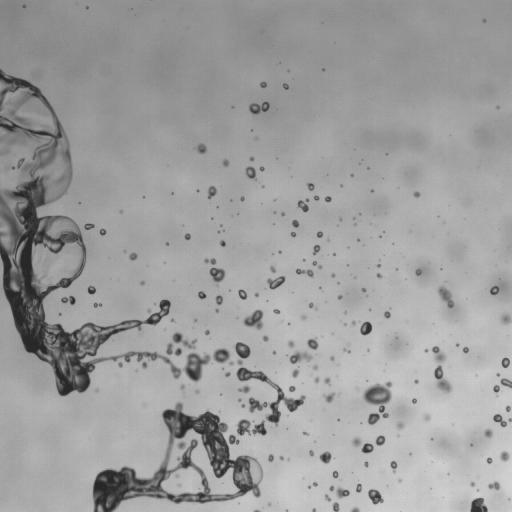droplet: (362, 380, 393, 425), (242, 309, 263, 330), (208, 267, 225, 287), (289, 350, 313, 364), (266, 275, 285, 289), (249, 101, 269, 114), (368, 488, 383, 505), (470, 497, 487, 511), (493, 413, 507, 427), (319, 451, 335, 463), (360, 321, 373, 335), (297, 198, 309, 212), (245, 166, 256, 180), (307, 336, 318, 350), (499, 312, 511, 324), (207, 185, 217, 199), (61, 295, 75, 305), (487, 481, 501, 491), (194, 143, 206, 154), (499, 450, 510, 462), (500, 378, 511, 389), (374, 435, 385, 446), (268, 79, 279, 90), (4, 91, 15, 102), (11, 144, 22, 155), (7, 180, 18, 191), (299, 188, 310, 199), (34, 205, 45, 216), (292, 208, 303, 219), (212, 246, 223, 257), (284, 270, 295, 281), (56, 286, 67, 297), (75, 289, 86, 300), (0, 300, 11, 311), (3, 311, 14, 322), (44, 314, 55, 325), (108, 314, 119, 325), (10, 331, 21, 342), (297, 341, 308, 352), (96, 344, 107, 355), (194, 345, 205, 356), (335, 351, 346, 362), (175, 356, 186, 367), (242, 358, 253, 369), (206, 359, 217, 370), (296, 359, 307, 370), (409, 385, 420, 396), (182, 405, 193, 416), (188, 407, 199, 418), (240, 408, 251, 419), (371, 422, 382, 433), (225, 424, 236, 435), (301, 437, 312, 448), (326, 459, 337, 470), (83, 492, 94, 503), (358, 492, 369, 503), (138, 494, 149, 505), (291, 365, 299, 378), (238, 289, 248, 299), (338, 502, 349, 511), (390, 460, 397, 473), (490, 285, 499, 295), (484, 428, 493, 438), (312, 244, 320, 255), (501, 357, 509, 368), (371, 503, 382, 511), (87, 285, 96, 294), (395, 421, 404, 430), (3, 67, 12, 76), (17, 85, 26, 94), (61, 123, 70, 132), (23, 153, 32, 162), (0, 223, 9, 232), (80, 229, 89, 238), (301, 261, 310, 270), (206, 293, 215, 302), (244, 307, 253, 316), (63, 324, 72, 333), (181, 346, 190, 355), (229, 351, 238, 360), (45, 365, 54, 374), (179, 372, 188, 381), (247, 377, 256, 386), (361, 381, 370, 390), (322, 385, 331, 394), (69, 389, 78, 398), (290, 390, 299, 399), (355, 390, 364, 399), (240, 392, 249, 401), (277, 402, 286, 411), (369, 403, 378, 412), (263, 420, 272, 429), (228, 451, 237, 460), (491, 453, 500, 462), (258, 455, 267, 464), (332, 478, 341, 487), (359, 489, 368, 498), (329, 492, 338, 501), (337, 496, 346, 505), (215, 295, 223, 305), (323, 376, 331, 386), (84, 223, 95, 230), (384, 307, 391, 318), (204, 258, 216, 264), (198, 291, 207, 299), (287, 339, 295, 348), (332, 502, 340, 511), (0, 107, 8, 116), (505, 367, 511, 378), (113, 505, 124, 511), (338, 505, 349, 511), (306, 182, 314, 190), (291, 219, 299, 227), (129, 252, 137, 260), (92, 302, 102, 308), (356, 482, 362, 492), (222, 159, 229, 167), (98, 228, 106, 235), (415, 268, 422, 276), (0, 155, 5, 166), (0, 287, 5, 298), (413, 191, 420, 198), (462, 346, 469, 353), (311, 363, 318, 370), (423, 414, 430, 421), (324, 494, 331, 501), (13, 71, 20, 78), (23, 74, 30, 81), (30, 78, 37, 85), (39, 87, 46, 94), (71, 166, 78, 173), (311, 188, 318, 195), (307, 190, 314, 197), (92, 226, 99, 233), (218, 233, 225, 240), (314, 237, 321, 244), (310, 265, 317, 272), (270, 272, 277, 279), (444, 283, 451, 290), (49, 289, 56, 296), (246, 291, 253, 298), (434, 293, 441, 300), (450, 294, 457, 301), (41, 297, 48, 304), (440, 300, 447, 307), (153, 305, 160, 312), (495, 310, 502, 317), (160, 315, 167, 322), (260, 315, 267, 322), (494, 317, 501, 324), (141, 322, 148, 329), (354, 322, 361, 329), (175, 326, 182, 333), (258, 328, 265, 335), (166, 335, 173, 342), (171, 342, 178, 349), (216, 342, 223, 349), (138, 345, 145, 352), (438, 345, 445, 352), (121, 346, 128, 353), (306, 347, 313, 354), (159, 348, 166, 355), (287, 348, 294, 355), (207, 349, 214, 356), (427, 350, 434, 357), (27, 351, 34, 358), (168, 353, 175, 360), (129, 354, 136, 361), (141, 355, 148, 362), (208, 356, 215, 363), (155, 357, 162, 364), (221, 360, 228, 367), (214, 361, 221, 368), (290, 362, 297, 369), (232, 363, 239, 370), (262, 368, 269, 375), (312, 369, 319, 376), (166, 370, 173, 377), (87, 371, 94, 378), (289, 378, 296, 385), (238, 380, 245, 387), (367, 380, 374, 387), (86, 384, 93, 391), (499, 384, 506, 391), (388, 385, 395, 392), (436, 387, 443, 394), (283, 390, 290, 397), (270, 394, 277, 401), (176, 395, 183, 402), (383, 401, 390, 408), (168, 403, 175, 410), (265, 407, 272, 414), (501, 413, 508, 420), (157, 416, 164, 423), (162, 427, 169, 434), (222, 431, 229, 438), (348, 432, 355, 439), (314, 449, 321, 456), (362, 452, 369, 459), (126, 461, 133, 468), (98, 464, 105, 471), (113, 464, 120, 471), (152, 464, 159, 471), (134, 471, 141, 478), (87, 479, 94, 486), (348, 486, 355, 493), (361, 486, 368, 493), (246, 489, 253, 496), (150, 496, 157, 503), (162, 497, 169, 504), (226, 498, 233, 505), (166, 499, 173, 506), (223, 499, 230, 506), (482, 499, 489, 506), (179, 500, 186, 507), (464, 503, 471, 510), (270, 265, 276, 273), (505, 405, 511, 413), (332, 470, 338, 478), (262, 506, 271, 511), (324, 196, 331, 202), (316, 231, 323, 237), (184, 233, 190, 240), (219, 240, 225, 247), (350, 320, 356, 327), (313, 376, 319, 383), (289, 385, 295, 392), (411, 398, 418, 404), (273, 309, 281, 314), (268, 454, 273, 462), (260, 81, 266, 87), (283, 83, 289, 89), (313, 195, 319, 201), (376, 273, 382, 279), (300, 314, 306, 320), (204, 329, 210, 335), (262, 335, 268, 341), (224, 371, 230, 377), (486, 457, 492, 463), (0, 80, 4, 89), (0, 126, 4, 135), (0, 141, 4, 150), (0, 261, 4, 270), (290, 232, 297, 237), (302, 431, 309, 436), (309, 450, 314, 457), (470, 481, 475, 487), (507, 309, 511, 316), (507, 321, 511, 328), (507, 410, 511, 417), (507, 421, 511, 428), (507, 449, 511, 456), (507, 454, 511, 461), (249, 156, 254, 161), (259, 166, 264, 171), (240, 196, 245, 201), (140, 280, 145, 285), (254, 292, 259, 297), (337, 294, 342, 299), (342, 321, 347, 326), (329, 356, 334, 361), (240, 403, 245, 408), (279, 455, 284, 460), (397, 478, 402, 483), (258, 77, 263, 82), (23, 86, 28, 91), (45, 95, 50, 100), (257, 100, 262, 105), (52, 106, 57, 111), (246, 110, 251, 115), (253, 113, 258, 118), (59, 120, 64, 125), (193, 141, 198, 146), (205, 145, 210, 150), (69, 151, 74, 156), (248, 151, 253, 156), (198, 152, 203, 157), (226, 156, 231, 161), (217, 160, 222, 165), (12, 161, 17, 166), (248, 161, 253, 166), (227, 162, 232, 167), (14, 167, 19, 172), (254, 167, 259, 172), (240, 168, 245, 173), (214, 184, 219, 189), (303, 185, 308, 190), (66, 187, 71, 192), (416, 187, 421, 192), (203, 191, 208, 196), (61, 194, 66, 199), (308, 195, 313, 200), (319, 195, 324, 200), (300, 196, 305, 201), (412, 196, 417, 201), (325, 201, 330, 206), (297, 207, 302, 212), (275, 211, 280, 216), (355, 214, 360, 219), (287, 219, 292, 224), (297, 219, 302, 224), (291, 226, 296, 231), (321, 234, 326, 239), (82, 239, 87, 244), (85, 247, 90, 252), (308, 247, 313, 252), (126, 249, 131, 254), (207, 254, 212, 259), (311, 255, 316, 260), (130, 259, 135, 264), (199, 259, 204, 264), (213, 263, 218, 268), (419, 265, 424, 270), (375, 267, 380, 272), (81, 268, 86, 273), (302, 272, 307, 277), (207, 274, 212, 279), (222, 275, 227, 280), (333, 276, 338, 281), (70, 280, 75, 285), (217, 280, 222, 285), (264, 282, 269, 287), (279, 283, 284, 288), (140, 284, 145, 289), (164, 295, 169, 300), (74, 298, 79, 303), (211, 298, 216, 303), (221, 298, 226, 303), (155, 299, 160, 304), (214, 303, 219, 308), (452, 303, 457, 308), (257, 305, 262, 310), (168, 306, 173, 311), (309, 307, 314, 312), (447, 307, 452, 312), (272, 312, 277, 317), (144, 313, 149, 318), (379, 313, 384, 318), (125, 315, 130, 320), (120, 316, 125, 321), (86, 317, 91, 322), (361, 317, 366, 322), (82, 318, 87, 323), (346, 320, 351, 325), (101, 321, 106, 326), (370, 322, 375, 327), (75, 323, 80, 328), (132, 326, 137, 331), (118, 330, 123, 335), (368, 330, 373, 335), (208, 331, 213, 336), (110, 333, 115, 338), (306, 334, 311, 339), (309, 334, 314, 339), (291, 336, 296, 341), (258, 337, 263, 342), (315, 338, 320, 343), (242, 339, 247, 344), (283, 339, 288, 344), (261, 340, 266, 345), (431, 341, 436, 346), (458, 344, 463, 349), (248, 345, 253, 350), (427, 345, 432, 350), (315, 346, 320, 351), (148, 348, 153, 353), (111, 351, 116, 356), (248, 352, 253, 357), (94, 353, 99, 358), (119, 356, 124, 361), (284, 356, 289, 361), (108, 359, 113, 364), (285, 359, 290, 364), (309, 359, 314, 364), (295, 360, 300, 365), (93, 362, 98, 367), (165, 363, 170, 368), (432, 363, 437, 368), (317, 364, 322, 369), (441, 366, 446, 371), (308, 367, 313, 372), (287, 369, 292, 374), (429, 370, 434, 375), (296, 372, 301, 377), (441, 374, 446, 379), (309, 376, 314, 381), (319, 376, 324, 381), (389, 377, 394, 382), (432, 377, 437, 382), (329, 378, 334, 383), (261, 380, 266, 385), (176, 388, 181, 393), (53, 389, 58, 394), (490, 390, 495, 395), (253, 395, 258, 400), (332, 395, 337, 400), (320, 396, 325, 401), (302, 398, 307, 403), (258, 399, 263, 404), (324, 401, 329, 406), (245, 402, 250, 407), (296, 404, 301, 409), (253, 407, 258, 412), (383, 407, 388, 412), (199, 409, 204, 414), (211, 409, 216, 414), (493, 409, 498, 414), (364, 413, 369, 418), (429, 413, 434, 418), (488, 414, 493, 419), (278, 415, 283, 420), (218, 417, 223, 422), (399, 417, 404, 422), (255, 419, 260, 424), (249, 424, 254, 429), (398, 428, 403, 433), (479, 430, 484, 435), (242, 431, 247, 436), (255, 431, 260, 436), (264, 432, 269, 437), (234, 433, 239, 438), (224, 437, 229, 442), (371, 441, 376, 446), (358, 443, 363, 448), (318, 449, 323, 454), (263, 454, 268, 459), (273, 455, 278, 460), (328, 458, 333, 463), (319, 460, 324, 465), (387, 466, 392, 471), (337, 472, 342, 477), (472, 477, 477, 482), (489, 478, 494, 483), (498, 481, 503, 486), (257, 483, 262, 488), (474, 483, 479, 488), (333, 484, 338, 489), (341, 484, 346, 489), (471, 485, 476, 490), (490, 487, 495, 492), (474, 493, 479, 498), (367, 498, 372, 503), (195, 501, 200, 506), (203, 501, 208, 506), (254, 504, 259, 509), (364, 461, 368, 467), (20, 0, 27, 3), (0, 215, 3, 222), (0, 277, 3, 284), (281, 211, 285, 216), (361, 288, 366, 292), (215, 308, 219, 313), (170, 318, 175, 322), (455, 342, 459, 347), (424, 348, 428, 353), (118, 362, 122, 367), (496, 372, 500, 377), (355, 386, 359, 391), (195, 389, 199, 394), (176, 483, 181, 487), (482, 18, 486, 22), (254, 136, 258, 140), (370, 189, 374, 193), (119, 209, 123, 213), (331, 273, 335, 277), (366, 348, 370, 352), (272, 350, 276, 354), (414, 379, 418, 383), (94, 388, 98, 392), (237, 398, 241, 402), (507, 418, 511, 422), (267, 502, 271, 506), (339, 216, 342, 221), (344, 310, 347, 315), (311, 508, 316, 511), (508, 362, 511, 367), (508, 376, 511, 381), (307, 508, 312, 511), (358, 508, 363, 511), (486, 508, 491, 511), (22, 4, 26, 7), (85, 6, 89, 9), (496, 105, 499, 109), (350, 173, 353, 177), (196, 189, 199, 193), (353, 222, 356, 226), (378, 235, 382, 238), (327, 237, 330, 241), (356, 238, 360, 241), (165, 242, 169, 245), (123, 249, 126, 253), (332, 252, 336, 255), (376, 264, 380, 267), (194, 318, 197, 322), (396, 434, 400, 437), (446, 472, 450, 475), (322, 68, 325, 71), (261, 185, 264, 188), (340, 184, 343, 187), (142, 195, 145, 198), (273, 198, 276, 201), (273, 211, 276, 214), (358, 212, 361, 215), (352, 217, 355, 220), (219, 224, 222, 227), (382, 230, 385, 233), (278, 250, 281, 253), (302, 258, 305, 261), (395, 267, 398, 270), (353, 276, 356, 279), (153, 302, 156, 305), (368, 308, 371, 311), (58, 312, 61, 315), (280, 320, 283, 323), (287, 322, 290, 325), (163, 327, 166, 330), (331, 332, 334, 335), (395, 336, 398, 339), (221, 367, 224, 370), (337, 418, 340, 421), (430, 437, 433, 440), (470, 443, 473, 446), (409, 452, 412, 455), (476, 488, 479, 491), (19, 3, 22, 6), (87, 3, 90, 6), (25, 4, 28, 7), (21, 7, 24, 10), (84, 8, 87, 11), (485, 17, 488, 20), (322, 65, 325, 68), (320, 70, 323, 73), (264, 79, 267, 82), (266, 82, 269, 85), (287, 83, 290, 86), (257, 84, 260, 87), (264, 86, 267, 89), (261, 87, 264, 90), (281, 87, 284, 90), (285, 88, 288, 91), (263, 98, 266, 101), (492, 105, 495, 108), (267, 107, 270, 110), (250, 125, 253, 128), (247, 128, 250, 131), (252, 128, 255, 131), (385, 149, 388, 152), (19, 155, 22, 158), (360, 160, 363, 163), (368, 164, 371, 167), (263, 165, 266, 168), (363, 165, 366, 168), (8, 166, 11, 169), (263, 168, 266, 171), (364, 168, 367, 171), (368, 168, 371, 171), (349, 170, 352, 173), (353, 173, 356, 176), (347, 174, 350, 177), (350, 176, 353, 179), (250, 177, 253, 180), (310, 180, 313, 183), (339, 180, 342, 183), (342, 182, 345, 185), (336, 184, 339, 187), (341, 186, 344, 189), (262, 187, 265, 190), (170, 188, 173, 191), (367, 188, 370, 191), (373, 188, 376, 191), (173, 191, 176, 194), (194, 191, 197, 194), (372, 191, 375, 194), (327, 193, 330, 196), (144, 194, 147, 197), (169, 194, 172, 197), (243, 195, 246, 198), (237, 196, 240, 199), (330, 197, 333, 200), (78, 198, 81, 201), (142, 198, 145, 201), (206, 198, 209, 201), (243, 198, 246, 201), (275, 199, 278, 202), (294, 200, 297, 203), (78, 203, 81, 206), (294, 203, 297, 206), (218, 204, 221, 207), (306, 209, 309, 212), (359, 209, 362, 212), (284, 211, 287, 214), (210, 213, 213, 216), (233, 213, 236, 216), (282, 215, 285, 218), (207, 216, 210, 219), (292, 216, 295, 219), (341, 217, 344, 220), (210, 219, 213, 222), (353, 219, 356, 222), (88, 220, 91, 223), (219, 220, 222, 223), (336, 220, 339, 223), (90, 227, 93, 230), (316, 228, 319, 231), (186, 230, 189, 233), (287, 231, 290, 234), (97, 232, 100, 235), (380, 232, 383, 235), (313, 233, 316, 236), (102, 234, 105, 237), (288, 234, 291, 237), (294, 235, 297, 238), (189, 236, 192, 239), (291, 236, 294, 239), (328, 236, 331, 239), (182, 237, 185, 240), (359, 237, 362, 240), (377, 237, 380, 240), (353, 238, 356, 241), (185, 239, 188, 242), (162, 241, 165, 244), (168, 241, 171, 244), (224, 241, 227, 244), (357, 241, 360, 244), (388, 241, 391, 244), (311, 243, 314, 246), (165, 245, 168, 248), (220, 245, 223, 248), (279, 247, 282, 250), (134, 250, 137, 253), (275, 251, 278, 254), (268, 252, 271, 255), (329, 252, 332, 255), (335, 252, 338, 255), (332, 255, 335, 258), (214, 256, 217, 259), (201, 257, 204, 260), (299, 257, 302, 260), (345, 260, 348, 263), (377, 260, 380, 263), (316, 261, 319, 264), (348, 264, 351, 267), (395, 264, 398, 267), (440, 264, 443, 267), (321, 265, 324, 268), (293, 267, 296, 270), (392, 267, 395, 270), (436, 267, 439, 270), (442, 267, 445, 270), (395, 270, 398, 273), (412, 271, 415, 274), (294, 272, 297, 275), (299, 272, 302, 275), (328, 272, 331, 275), (351, 273, 354, 276), (373, 273, 376, 276), (418, 274, 421, 277), (328, 275, 331, 278), (375, 276, 378, 279), (138, 278, 141, 281), (144, 281, 147, 284), (338, 283, 341, 286), (491, 283, 494, 286), (495, 283, 498, 286), (361, 284, 364, 287), (94, 285, 97, 288), (315, 285, 318, 288), (239, 286, 242, 289), (321, 286, 324, 289), (487, 287, 490, 290), (84, 288, 87, 291), (197, 288, 200, 291), (243, 288, 246, 291), (270, 288, 273, 291), (317, 288, 320, 291), (498, 288, 501, 291), (94, 290, 97, 293), (203, 291, 206, 294), (235, 291, 238, 294), (363, 291, 366, 294), (487, 291, 490, 294), (195, 292, 198, 295), (216, 292, 219, 295), (258, 292, 261, 295), (336, 292, 339, 295), (89, 293, 92, 296), (491, 294, 494, 297), (334, 295, 337, 298), (245, 296, 248, 299), (255, 296, 258, 299), (197, 297, 200, 300), (202, 297, 205, 300), (238, 297, 241, 300), (340, 297, 343, 300), (66, 300, 69, 303), (96, 300, 99, 303), (100, 300, 103, 303), (60, 301, 63, 304), (90, 303, 93, 306), (101, 303, 104, 306), (305, 303, 308, 306), (312, 303, 315, 306), (96, 305, 99, 308), (365, 306, 368, 309), (370, 306, 373, 309), (277, 307, 280, 310), (341, 308, 344, 311), (58, 309, 61, 312), (346, 309, 349, 312), (370, 309, 373, 312), (388, 309, 391, 312), (212, 310, 215, 313), (190, 318, 193, 321), (196, 319, 199, 322), (287, 319, 290, 322), (171, 321, 174, 324), (284, 321, 287, 324), (340, 323, 343, 326), (287, 324, 290, 327), (203, 327, 206, 330), (208, 328, 211, 331), (394, 333, 397, 336), (267, 335, 270, 338), (452, 343, 455, 346), (340, 345, 343, 348), (467, 345, 470, 348), (346, 346, 349, 349), (422, 346, 425, 349), (363, 348, 366, 351), (369, 348, 372, 351), (269, 349, 272, 352), (350, 349, 353, 352), (275, 350, 278, 353), (460, 350, 463, 353), (467, 350, 470, 353), (344, 351, 347, 354), (348, 352, 351, 355), (270, 353, 273, 356), (327, 354, 330, 357), (504, 354, 507, 357), (333, 356, 336, 359), (498, 359, 501, 362), (329, 360, 332, 363), (498, 362, 501, 365), (411, 380, 414, 383), (417, 381, 420, 384), (294, 385, 297, 388), (490, 386, 493, 389), (497, 390, 500, 393), (216, 392, 219, 395), (219, 395, 222, 398), (408, 398, 411, 401), (415, 400, 418, 403), (239, 401, 242, 404), (336, 415, 339, 418), (333, 417, 336, 420), (339, 417, 342, 420), (504, 425, 507, 428), (287, 427, 290, 430), (305, 429, 308, 432), (299, 432, 302, 435), (379, 432, 382, 435), (303, 434, 306, 437), (432, 435, 435, 438), (427, 436, 430, 439), (428, 439, 431, 442), (383, 440, 386, 443), (470, 440, 473, 443), (466, 443, 469, 446), (469, 446, 472, 449), (407, 449, 410, 452), (306, 451, 309, 454), (279, 452, 282, 455), (411, 452, 414, 455), (488, 454, 491, 457), (408, 455, 411, 458), (283, 456, 286, 459), (256, 458, 259, 461), (389, 458, 392, 461), (483, 458, 486, 461), (279, 459, 282, 462), (395, 460, 398, 463), (361, 461, 364, 464), (484, 461, 487, 464), (367, 462, 370, 465), (387, 462, 390, 465), (489, 462, 492, 465), (396, 463, 399, 466), (362, 465, 365, 468), (331, 468, 334, 471), (336, 469, 339, 472), (329, 472, 332, 475), (313, 479, 316, 482), (394, 479, 397, 482), (401, 479, 404, 482), (316, 480, 319, 483), (357, 480, 360, 483), (467, 480, 470, 483), (327, 484, 330, 487), (315, 485, 318, 488), (305, 487, 308, 490), (355, 491, 358, 494), (321, 495, 324, 498), (505, 499, 508, 502), (287, 457, 289, 461), (231, 106, 234, 108), (385, 153, 388, 155), (367, 166, 369, 169), (78, 202, 81, 204), (237, 212, 239, 215), (272, 223, 275, 225), (347, 246, 349, 249), (163, 261, 166, 263), (346, 264, 349, 266), (366, 294, 368, 297), (358, 320, 360, 323), (135, 369, 137, 372), (475, 374, 478, 376), (219, 393, 222, 395), (286, 414, 288, 417), (313, 440, 316, 442), (508, 497, 510, 500), (285, 509, 288, 511), (509, 404, 511, 407), (509, 408, 511, 411), (509, 495, 511, 498), (282, 509, 285, 511), (287, 509, 290, 511), (315, 509, 318, 511), (251, 129, 253, 131), (171, 192, 173, 194), (230, 199, 232, 201), (216, 206, 218, 208), (211, 217, 213, 219), (182, 224, 184, 226), (336, 224, 338, 226), (392, 242, 394, 244), (440, 268, 442, 270), (337, 282, 339, 284), (228, 289, 230, 291), (286, 354, 288, 356), (218, 410, 220, 412), (360, 422, 362, 424), (386, 485, 388, 487), (238, 502, 240, 504), (287, 70, 289, 71), (361, 159, 363, 160), (272, 253, 273, 255), (266, 300, 268, 301), (333, 434, 334, 435), (431, 461, 432, 462)
ligament: (431, 345, 452, 393), (437, 285, 454, 308), (351, 436, 373, 453), (329, 485, 350, 498), (322, 392, 341, 403), (295, 268, 313, 278), (312, 261, 322, 269), (493, 384, 499, 397), (307, 482, 318, 489), (308, 302, 317, 310), (180, 384, 185, 394), (350, 506, 359, 511), (217, 229, 225, 233), (318, 286, 322, 290), (253, 509, 261, 511), (379, 258, 380, 261)
